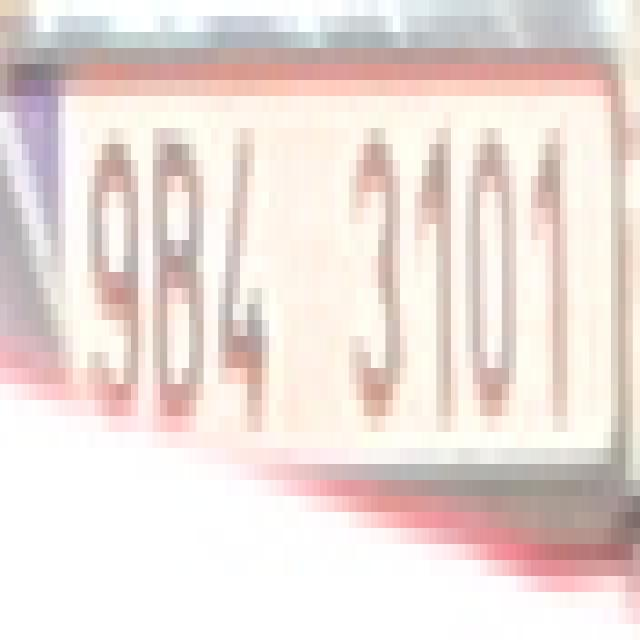0: (473, 112, 516, 416)
1: (516, 128, 574, 432), (415, 112, 458, 432)
3: (342, 112, 400, 416)
4: (218, 144, 276, 416)
9: (80, 144, 131, 400)
B: (153, 144, 211, 448)
